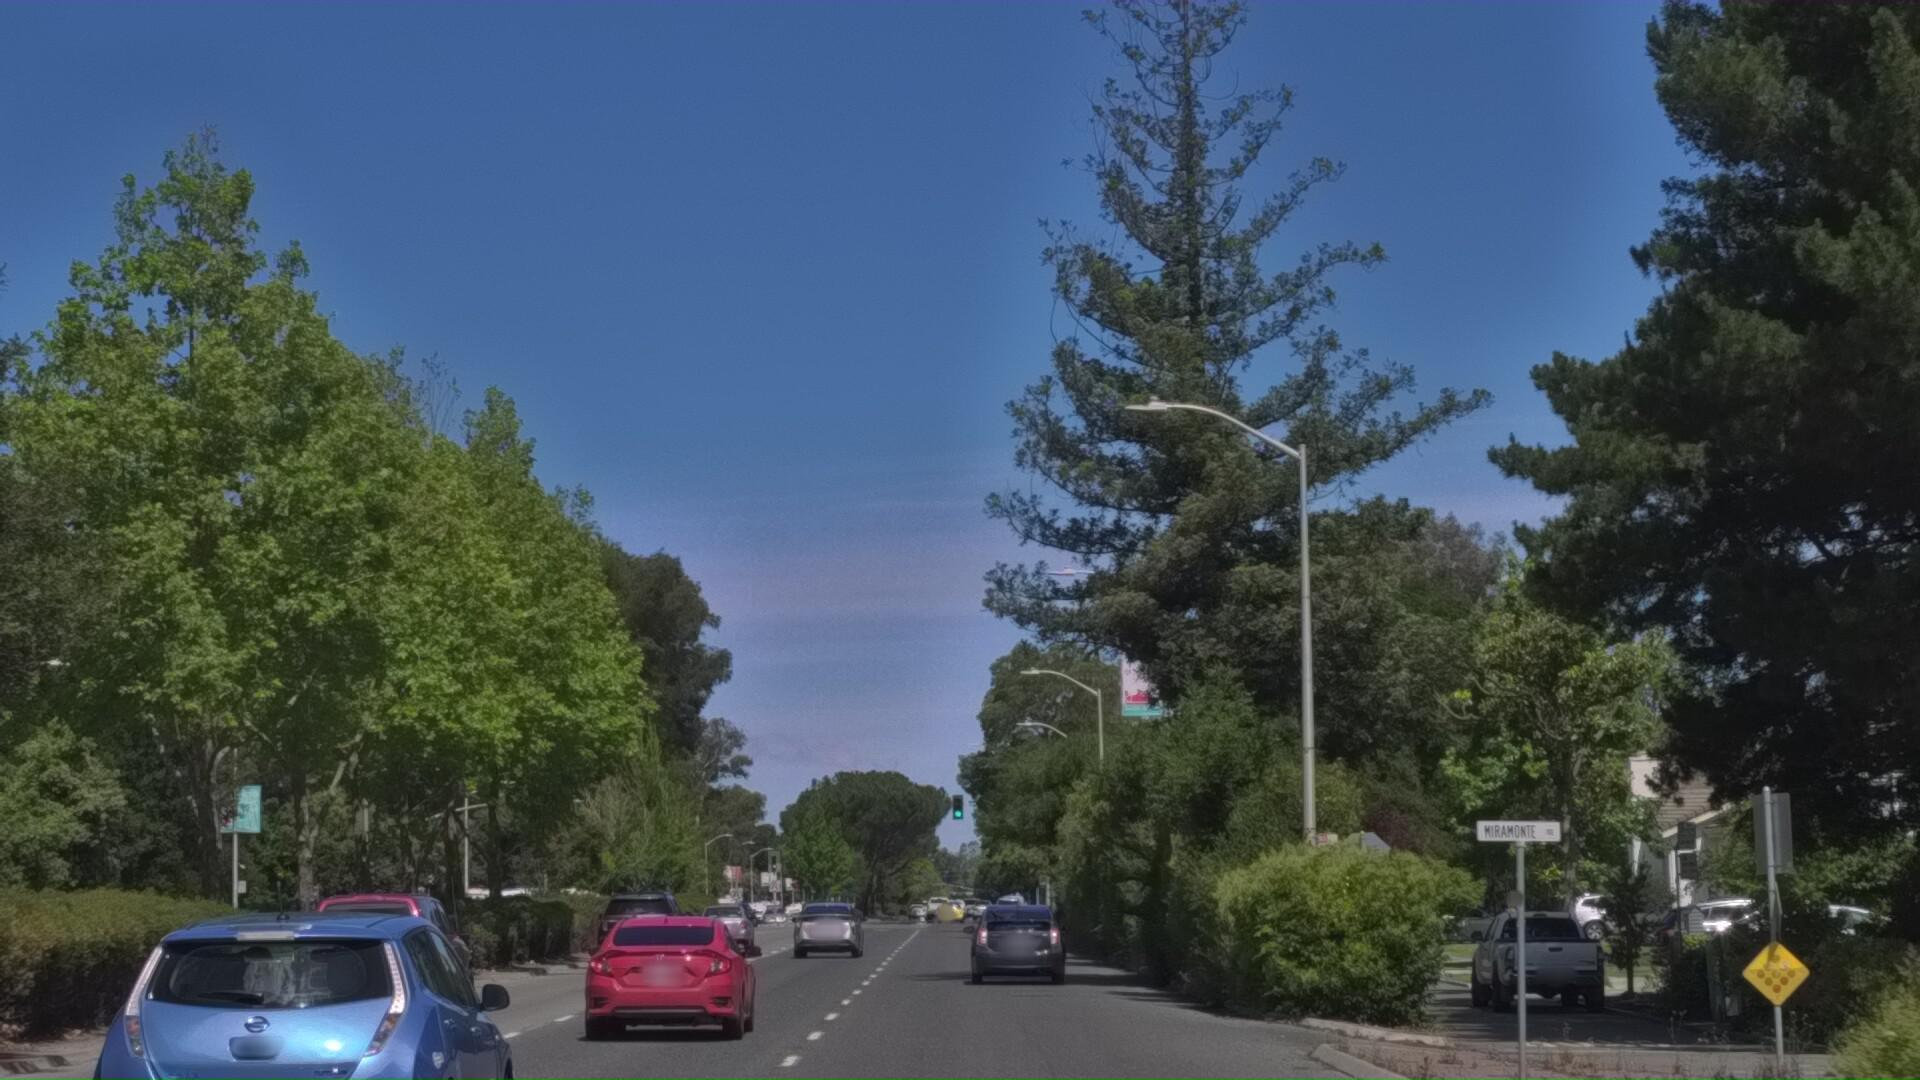car: (71, 948, 535, 1080), (1662, 992, 1920, 1080), (1627, 993, 1865, 1080), (316, 976, 506, 1080), (588, 986, 771, 1080), (1480, 998, 1615, 1080), (952, 992, 1071, 1080)
